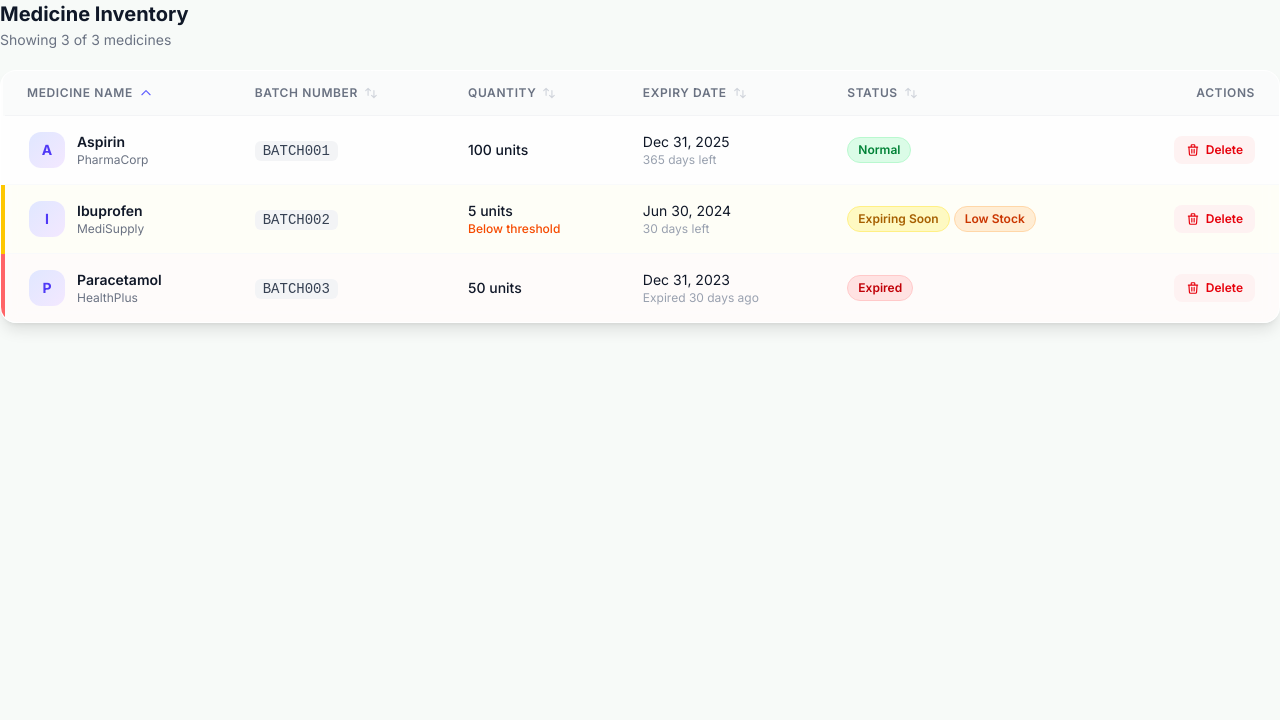
it: InventoryTable › cancels delete when cancel button is clicked
This screenshot has width=1280, height=720.
Check: the text "Aspirin" is shown, box [77,133,125,150]
Click the button titled "Delete medicine" in the row of "Aspirin".
click(1214, 150)  # box [1174,136,1255,164]
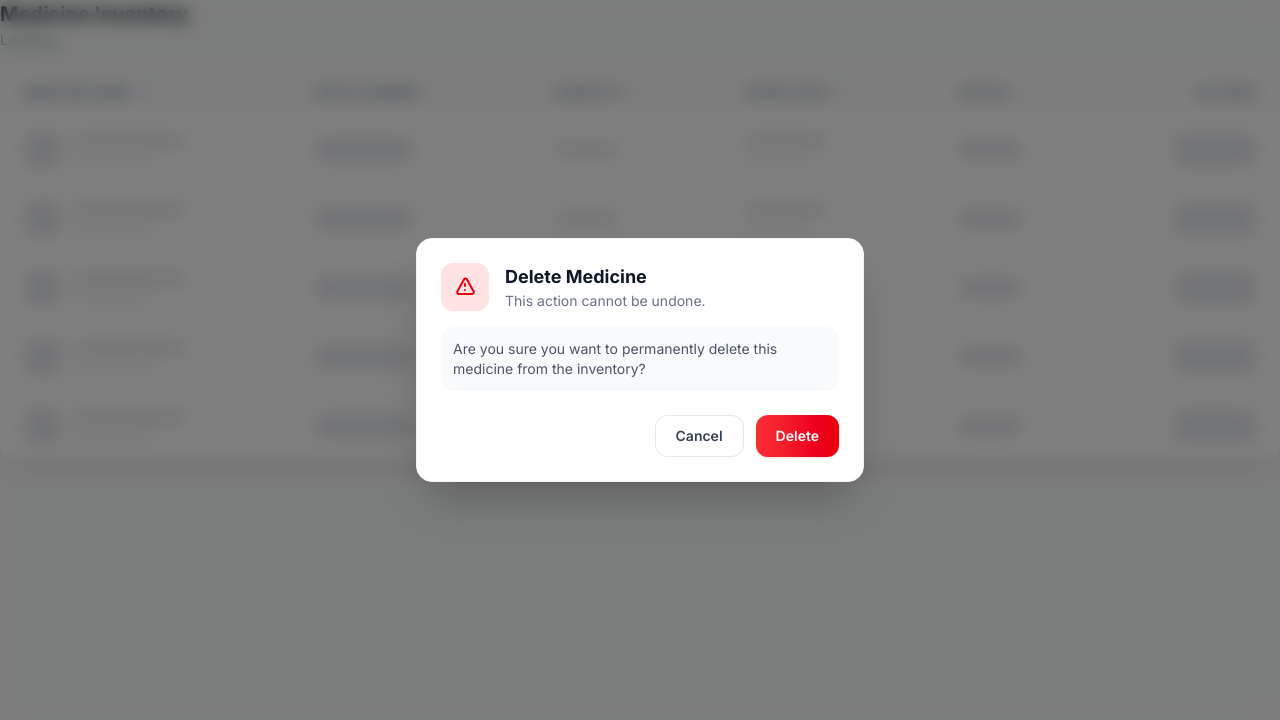
Click the button "Cancel".
click(699, 436)  # box [654,415,744,457]
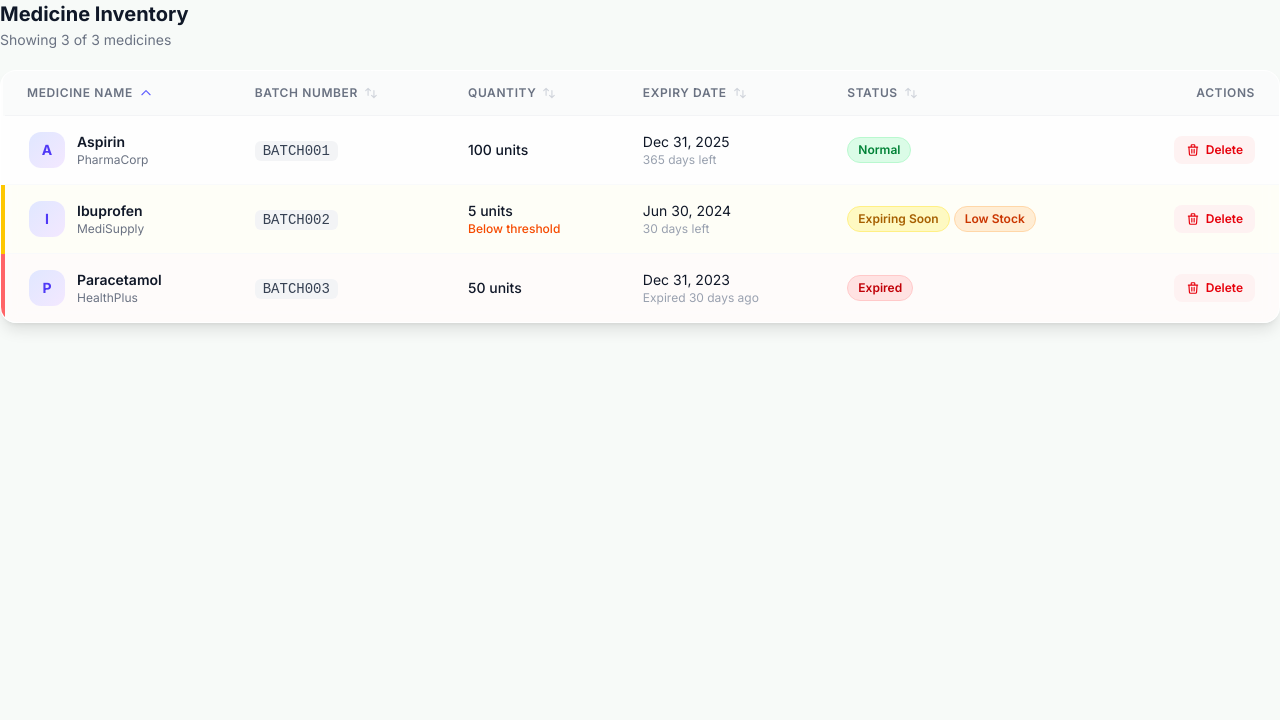
Check: the heading "Delete Medicine" is gone
